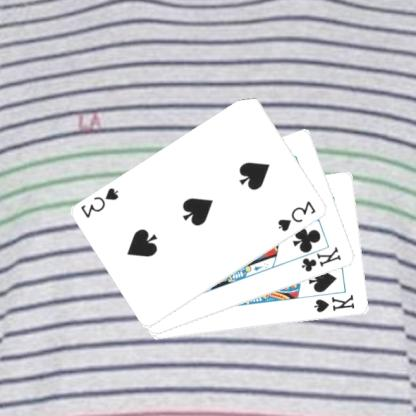3S: (277, 198, 320, 233), (80, 184, 122, 219)
KC: (294, 242, 344, 274)
KS: (313, 292, 358, 314)
